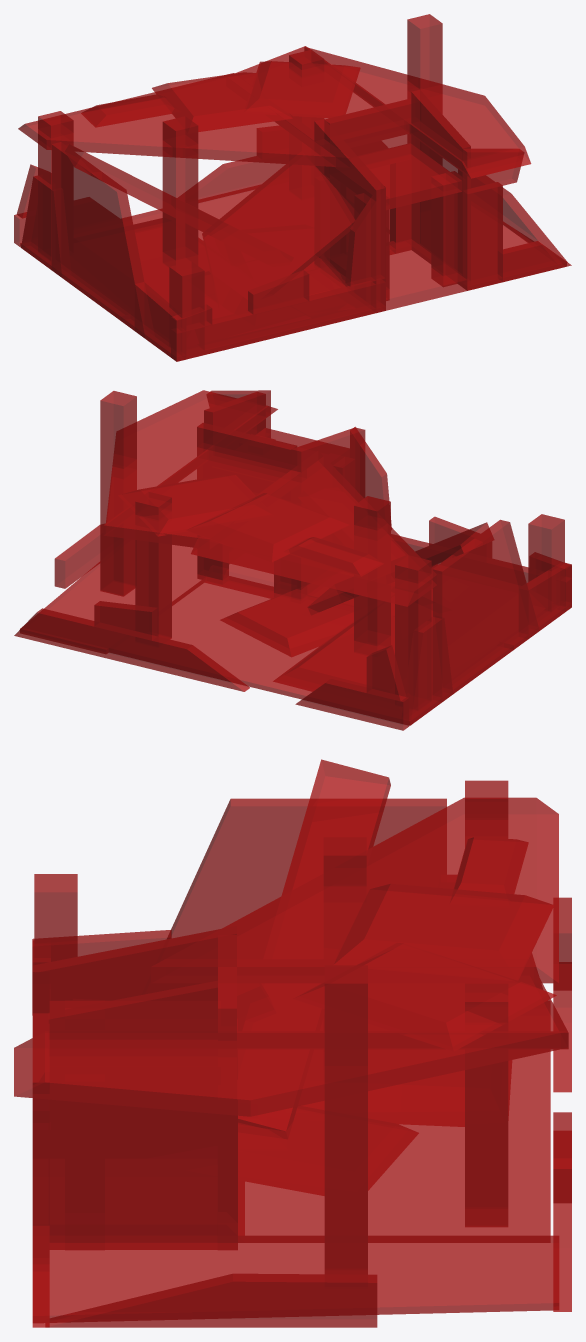
Rendered from SM_Bld_Destroyed_02_Collision.fbx.
3 renders of one model, top to bottom at view 1: azimuth 30°, elevation 25°; view 2: azimuth 150°, elevation 25°; view 3: azimuth 270°, elevation 25°, orthographic. The views are drawn at different scales.
Parts seen in each view (by area): view 1: SM_Bld_Destroyed_02_Collision; view 2: SM_Bld_Destroyed_02_Collision; view 3: SM_Bld_Destroyed_02_Collision.
Boxes of the visible parts, bbox=[...] form: SM_Bld_Destroyed_02_Collision: bbox=[14, 14, 571, 361]; SM_Bld_Destroyed_02_Collision: bbox=[14, 390, 571, 730]; SM_Bld_Destroyed_02_Collision: bbox=[14, 759, 571, 1327].
Size of the model in its own units: 1055 by 494 by 752.
